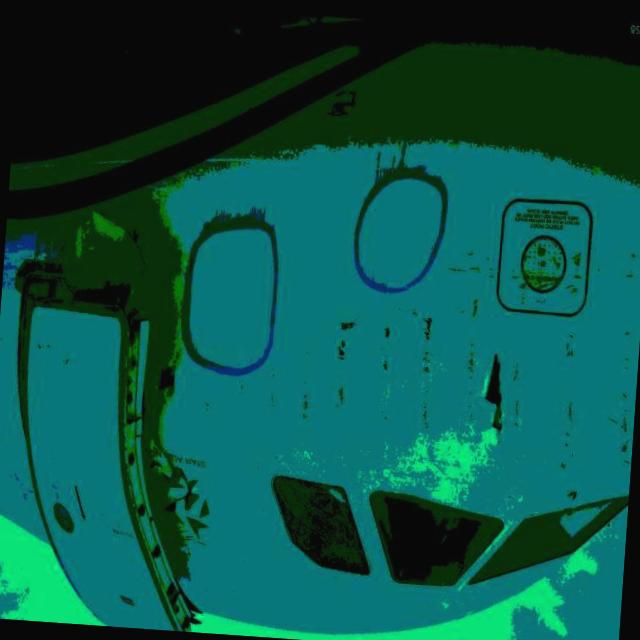crack: (476, 342, 514, 438)
